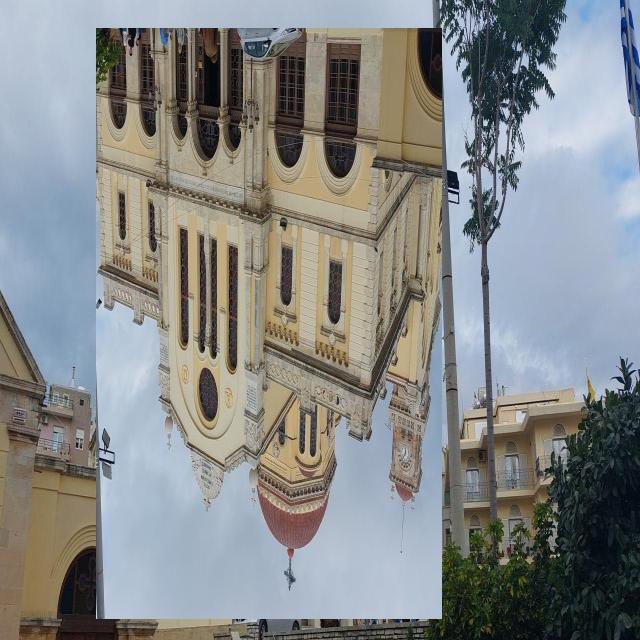Agios Minas: (97, 29, 443, 620)
